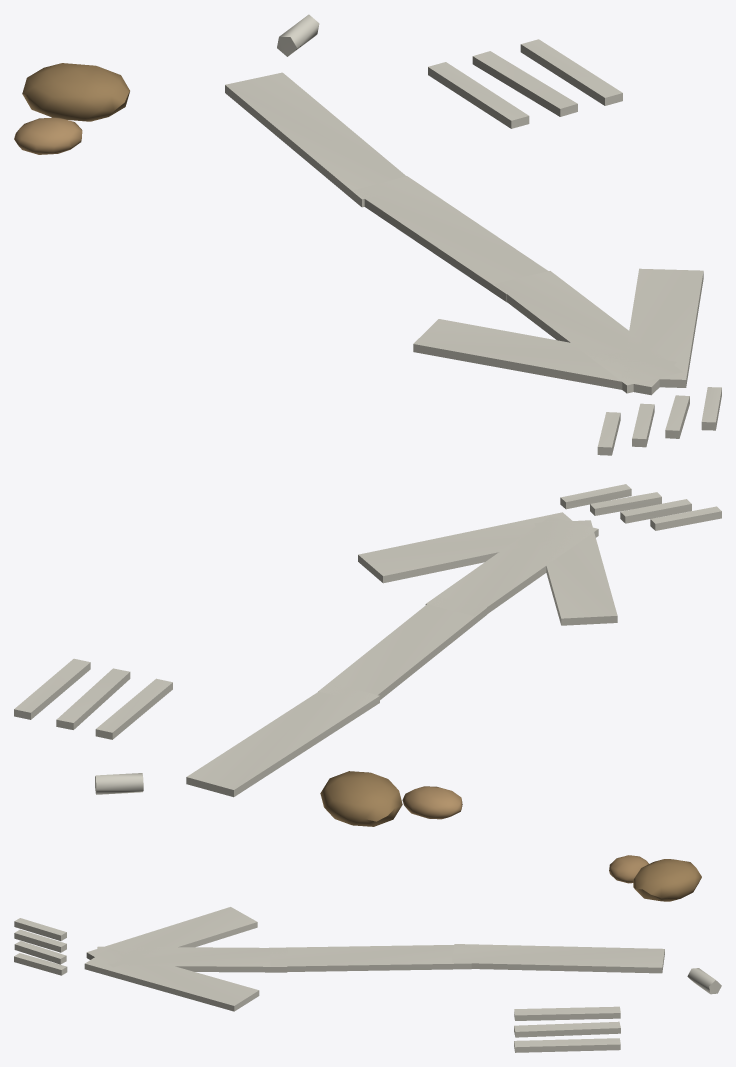
Rendered from chalk_turn_a_lod2.glb.
3 views of the same model, one above another, from view 1: azimuth 30°, elevation 25°; view 2: azimuth 150°, elevation 25°; view 3: azimuth 270°, elevation 25° (orthographic). The views are drawn at different scales.
Parts seen in each view (by area): view 1: Surface.001; view 2: Surface.001; view 3: Surface.001.
Boxes of the visible parts, box(x1,y1,x2,y2) form: Surface.001: box(14, 14, 721, 455); Surface.001: box(14, 484, 721, 826); Surface.001: box(14, 855, 721, 1052).
Bounding box in the file's own units: 3.36 × 0.3596 × 5.68.
